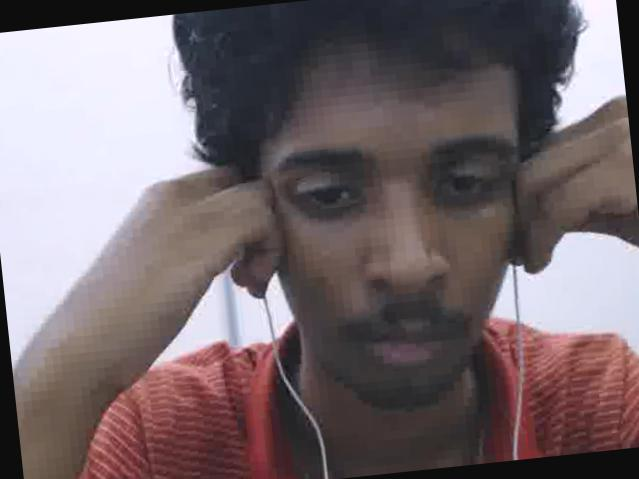bosan: (243, 40, 554, 418)
